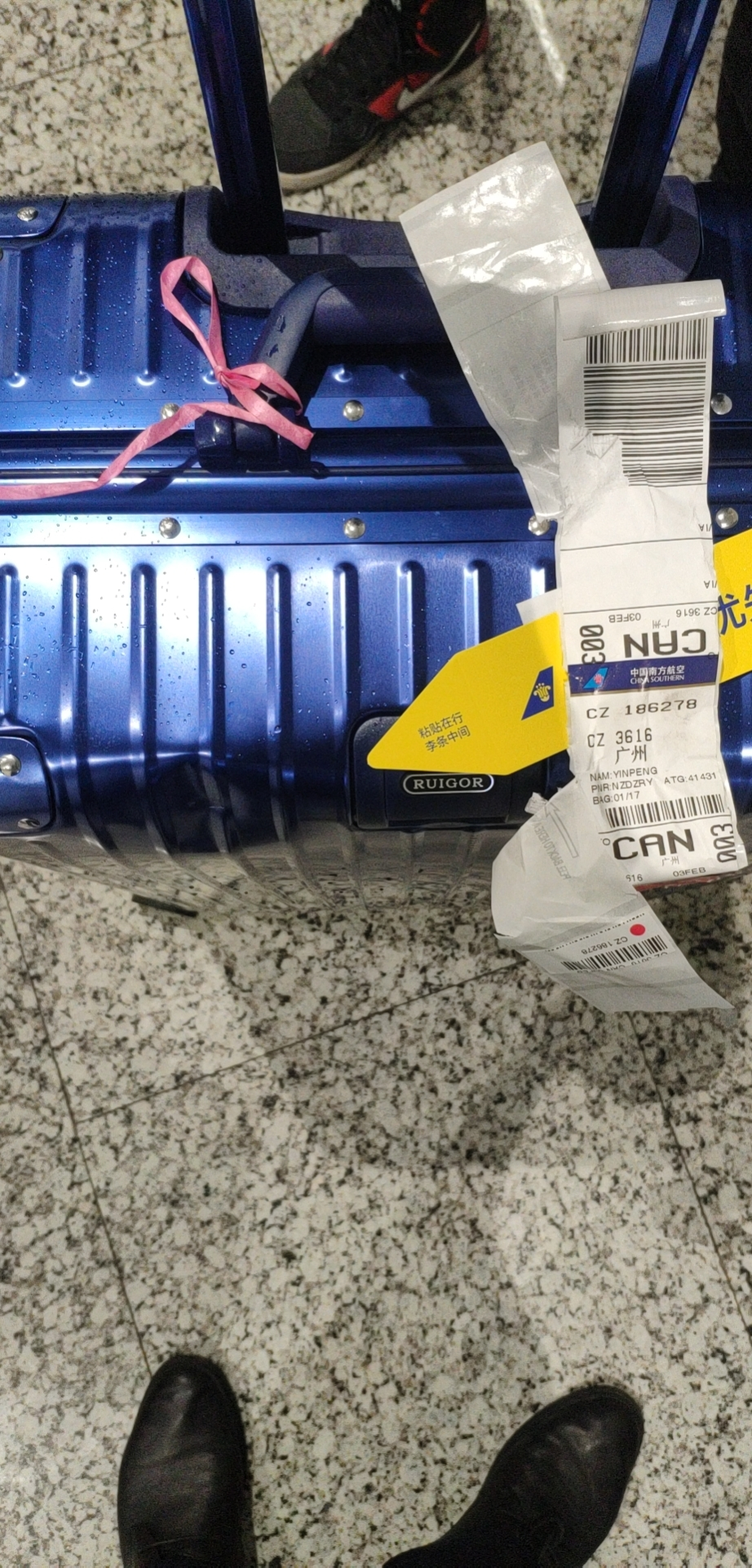rupture: (155, 752, 258, 854)
